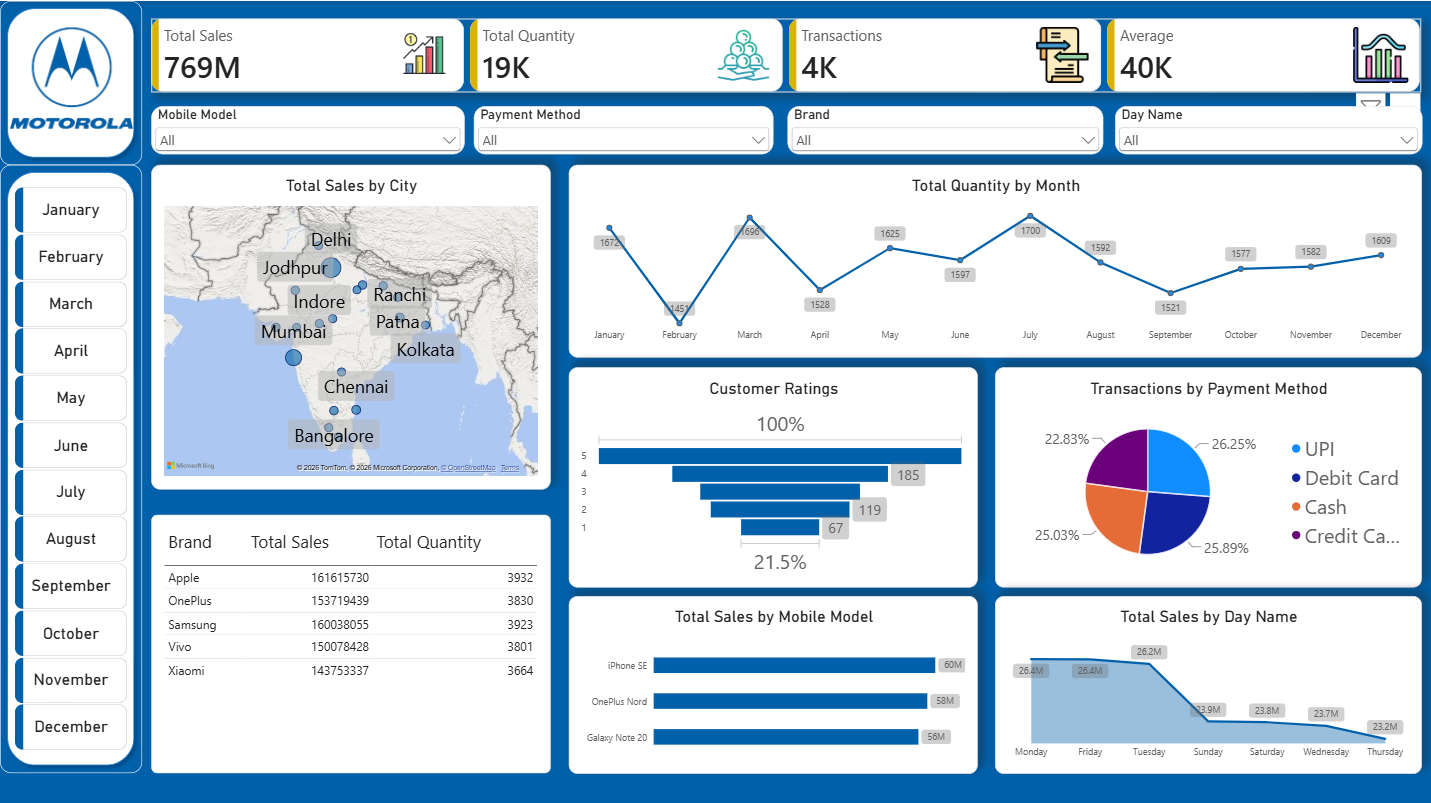

Layout of this report page (visuals, bound fields, positions):
{"tool":"powerbi","page":{"name":"Dashboard","canvas":[1920,1080],"ordinal":0},"visuals":[{"type":"shape","box":[0,0,190,220],"z":0},{"type":"image","box":[13.3,20,165,166.7],"z":1000},{"type":"shape","box":[0,220,190,815],"z":2000},{"type":"advancedSlicerVisual","fields":{"Values":["Sheet1.Date.Variation.Date Hierarchy.Month"]},"box":[20,250,150,758.3],"z":3000},{"type":"cardVisual","fields":{"Data":["Sheet1.Total_Sales","Sheet1.Total_Quantity","Sheet1.Transactions","Sheet1.Average"]},"box":[203.3,23.3,1701.7,98.3],"z":4000},{"type":"map","fields":{"Category":["Sheet1.City"],"Size":["Sheet1.Sales"]},"box":[203.3,220,535,435],"z":5000},{"type":"lineChart","fields":{"Category":["Sheet1.Date.Variation.Date Hierarchy.Month","Sheet1.Date.Variation.Date Hierarchy.Day"],"Y":["Sheet1.Total Quantity"]},"box":[761.7,220,1143.3,258.3],"z":6000},{"type":"barChart","fields":{"Category":["Sheet1.Mobile Model"],"Y":["Sheet1.Total Sales"]},"box":[761.7,796.7,548.3,238.3],"z":7000},{"type":"pieChart","fields":{"Category":["Sheet1.Payment Method"],"Y":["Sheet1.Transactions"]},"box":[1333.3,490,571.7,295],"z":8000},{"type":"funnel","title":"Customer Ratings","fields":{"Category":["Sheet1.Customer Ratings"],"Y":["CountNonNull(Sheet1.Customer Ratings)"]},"box":[761.7,490,548.3,295],"z":9000},{"type":"areaChart","title":"Total Sales by Day Name","fields":{"Category":["Sheet1.Day Name"],"Y":["Sheet1.Total Sales"]},"box":[1333.3,796.7,571.7,238.3],"z":10000},{"type":"actionButton","box":[0,0,100,40],"z":11000},{"type":"tableEx","fields":{"Values":["Sheet1.Brand","Sheet1.Total Sales","Sheet1.Total Quantity"]},"box":[203.3,688.3,535,346.7],"z":12000},{"type":"slicer","fields":{"Values":["Sheet1.Mobile Model"]},"box":[203.3,140,420,65],"z":13000},{"type":"slicer","fields":{"Values":["Sheet1.Payment Method"]},"box":[635,140,401.7,65],"z":14000},{"type":"slicer","fields":{"Values":["Sheet1.Brand"]},"box":[1055,140,423.3,65],"z":15000},{"type":"slicer","fields":{"Values":["Sheet1.Day Name"]},"box":[1493.3,140,411.7,65],"z":16000}]}

Visuals, with their boxes in screenshot pixels (x1, y1, x2, y2), scaled from the page's 1920x1080 canvas onto the 1431x803 screenshot:
shape: x1=0, y1=0, x2=142, y2=164
image: x1=10, y1=15, x2=133, y2=139
shape: x1=0, y1=164, x2=142, y2=770
advancedSlicerVisual - Sheet1.Date.Variation.Date Hierarchy.Month: x1=15, y1=186, x2=127, y2=750
cardVisual - Sheet1.Total_Sales x Sheet1.Total_Quantity: x1=152, y1=17, x2=1420, y2=90
map - Sheet1.City x Sheet1.Sales: x1=152, y1=164, x2=550, y2=487
lineChart - Sheet1.Date.Variation.Date Hierarchy.Month x Sheet1.Date.Variation.Date Hierarchy.Day: x1=568, y1=164, x2=1420, y2=356
barChart - Sheet1.Mobile Model x Sheet1.Total Sales: x1=568, y1=592, x2=976, y2=770
pieChart - Sheet1.Payment Method x Sheet1.Transactions: x1=994, y1=364, x2=1420, y2=584
"Customer Ratings" funnel: x1=568, y1=364, x2=976, y2=584
"Total Sales by Day Name" areaChart: x1=994, y1=592, x2=1420, y2=770
actionButton: x1=0, y1=0, x2=75, y2=30
tableEx - Sheet1.Brand x Sheet1.Total Sales: x1=152, y1=512, x2=550, y2=770
slicer - Sheet1.Mobile Model: x1=152, y1=104, x2=465, y2=152
slicer - Sheet1.Payment Method: x1=473, y1=104, x2=773, y2=152
slicer - Sheet1.Brand: x1=786, y1=104, x2=1102, y2=152
slicer - Sheet1.Day Name: x1=1113, y1=104, x2=1420, y2=152
